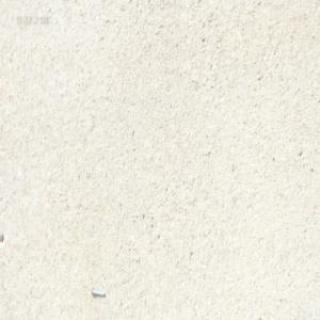Nailtrack_idkeyframe: (90, 286, 106, 297)
